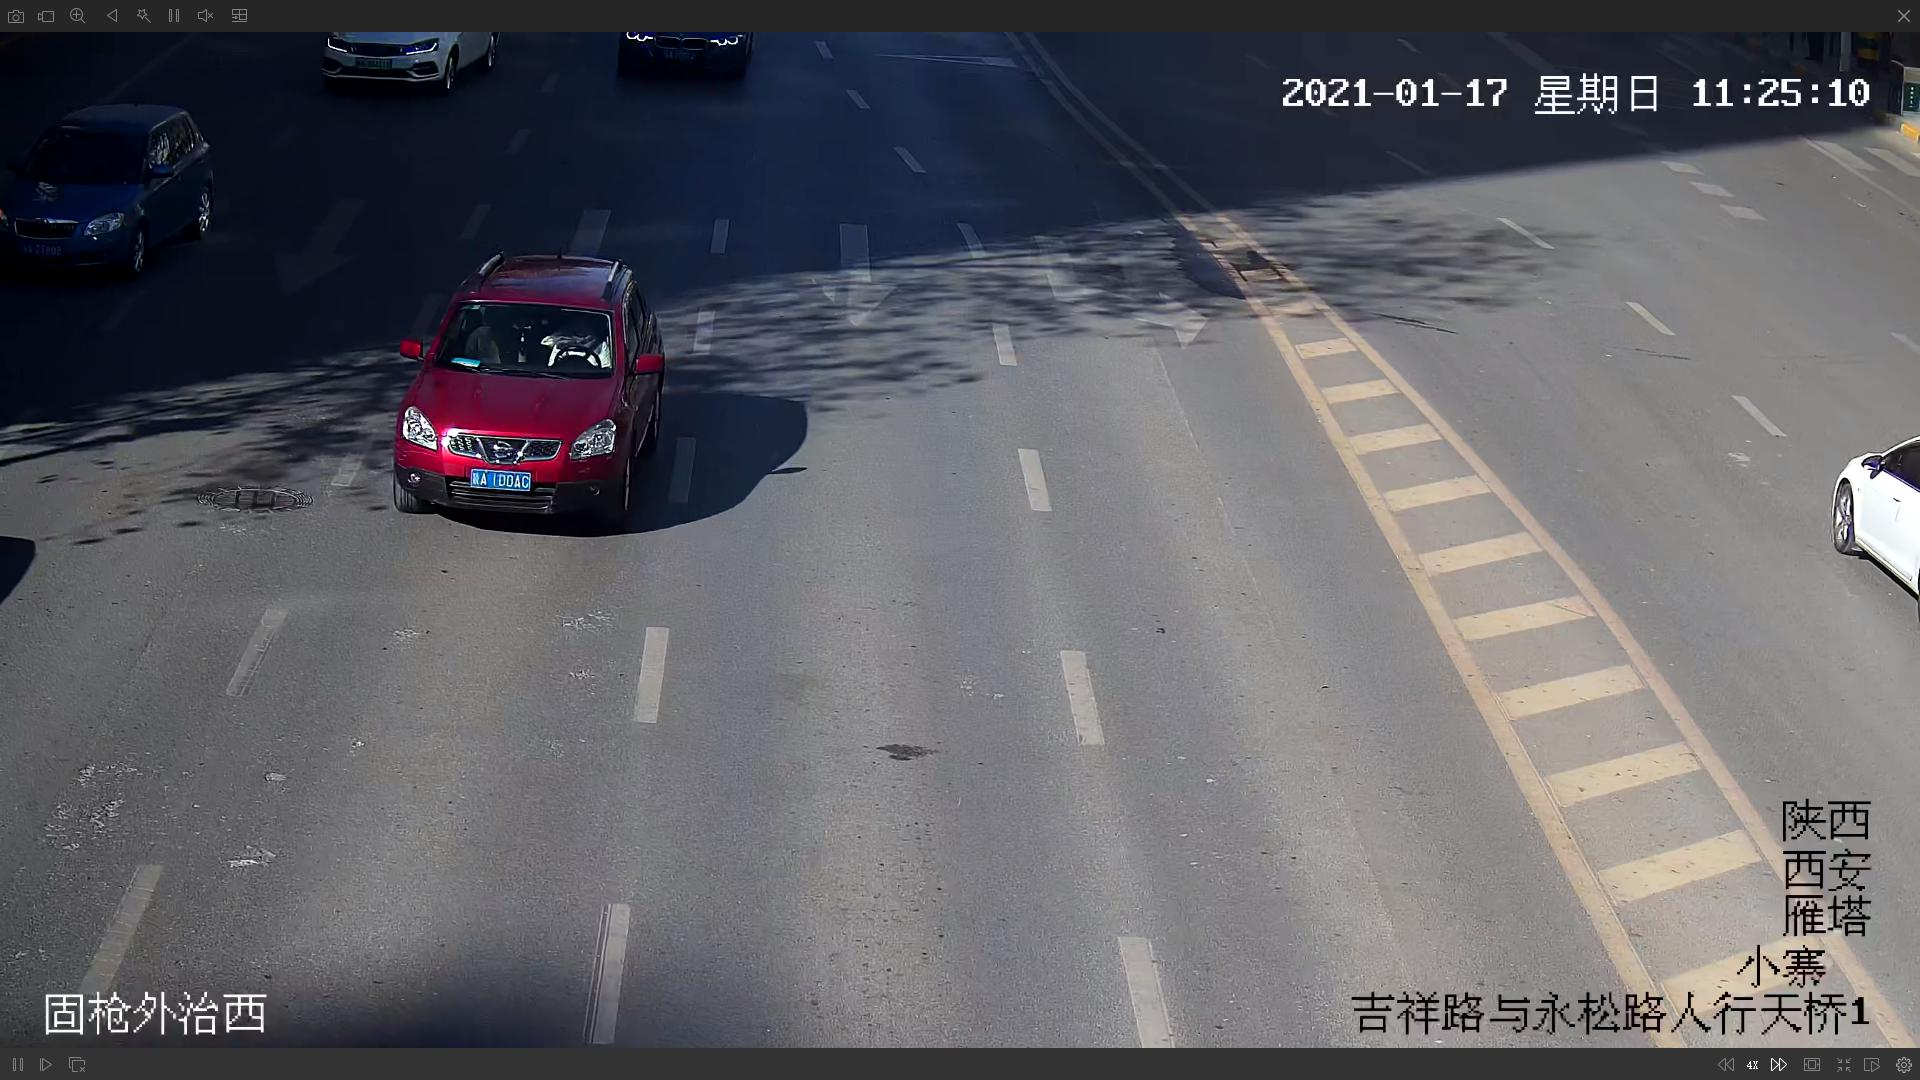dark-red: (394, 256, 657, 521)
